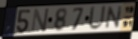5: (16, 9, 32, 34)
7: (72, 6, 86, 31)
8: (53, 7, 68, 33)
N: (30, 7, 50, 34), (104, 5, 124, 30)
U: (88, 4, 108, 32)
